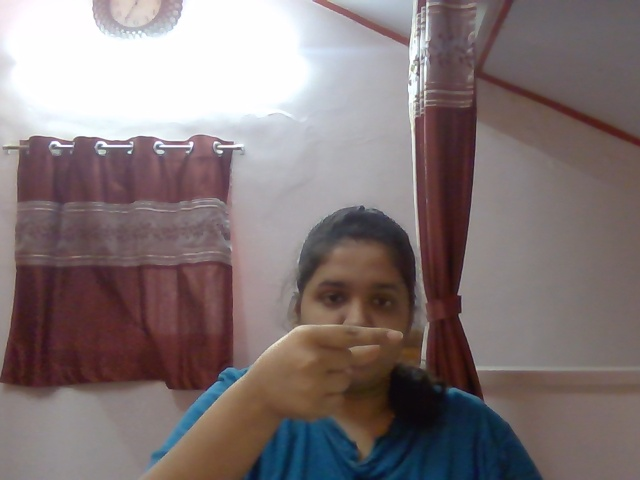g: (260, 313, 418, 420)
